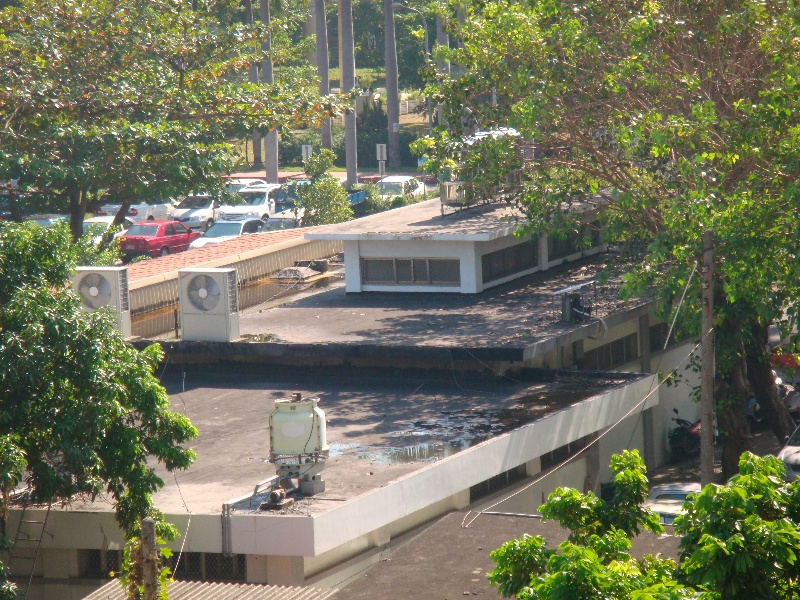water_tower: (268, 394, 330, 485), (435, 158, 475, 215)
